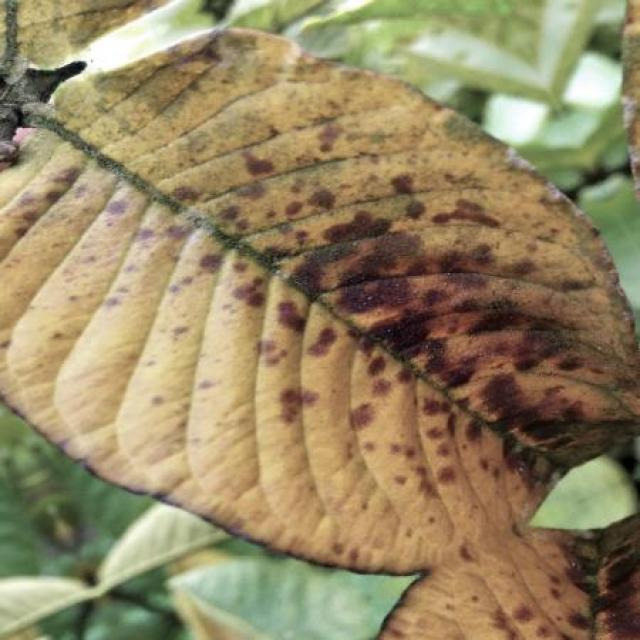Red Rust: (0, 31, 639, 572), (379, 514, 640, 639)
